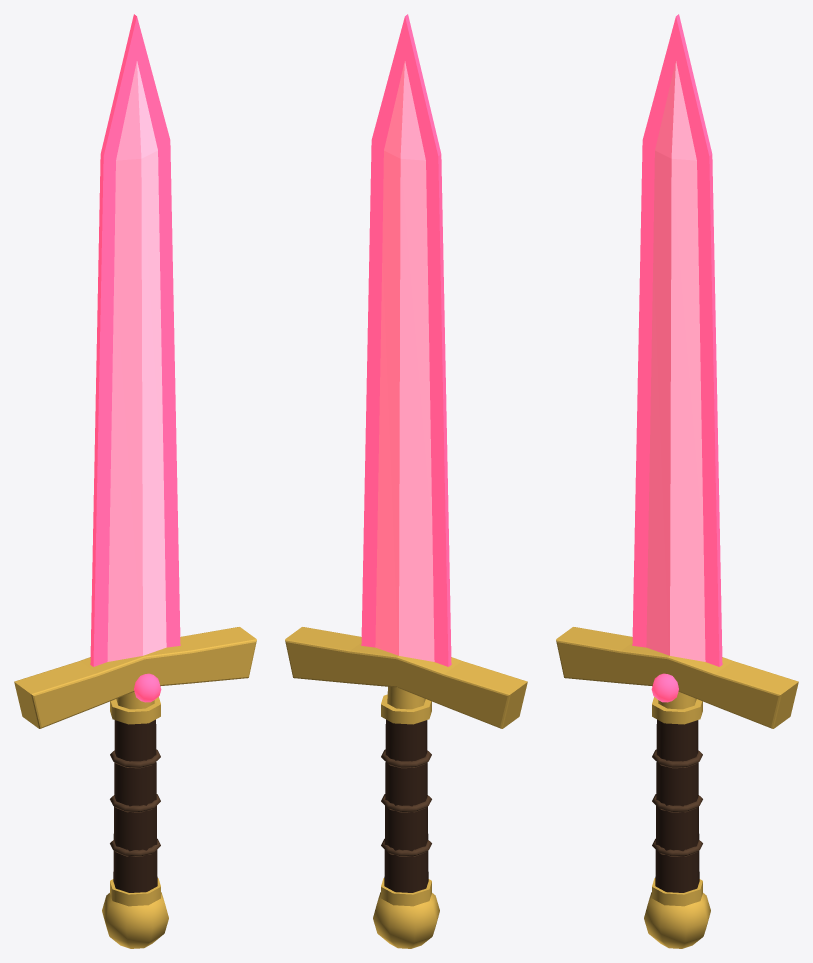
The model's file is sword_f0_29ca9c94.glb.
The picture shows the model from 3 angles, left to right: view 1: azimuth 30°, elevation 25°; view 2: azimuth 150°, elevation 25°; view 3: azimuth 330°, elevation 25°; orthographic projection.
Visible parts, largest first — view 1: m0_ow80_, m1_gm130_, m4_ow80_, m2_ow80_, m5_ow80_, m3_gm160_; view 2: m0_ow80_, m1_gm130_, m4_ow80_, m2_ow80_, m5_ow80_; view 3: m0_ow80_, m1_gm130_, m4_ow80_, m2_ow80_, m5_ow80_, m3_gm160_.
Part boxes in pixels (x1,y1,x2,y2): m0_ow80_: (107,61,166,661); m1_gm130_: (90,14,180,666); m4_ow80_: (14,627,256,948); m2_ow80_: (113,719,157,892); m5_ow80_: (110,749,160,856); m3_gm160_: (134,673,161,702); m0_ow80_: (375,61,434,661); m1_gm130_: (361,14,451,666); m4_ow80_: (285,627,527,948); m2_ow80_: (384,719,428,892); m5_ow80_: (381,749,431,856); m0_ow80_: (646,61,705,661); m1_gm130_: (632,14,722,666); m4_ow80_: (556,627,798,948); m2_ow80_: (655,719,699,892); m5_ow80_: (652,749,702,856); m3_gm160_: (651,673,678,702).
Size of the model in its own units: 0.4791 by 1.89 by 0.134.
